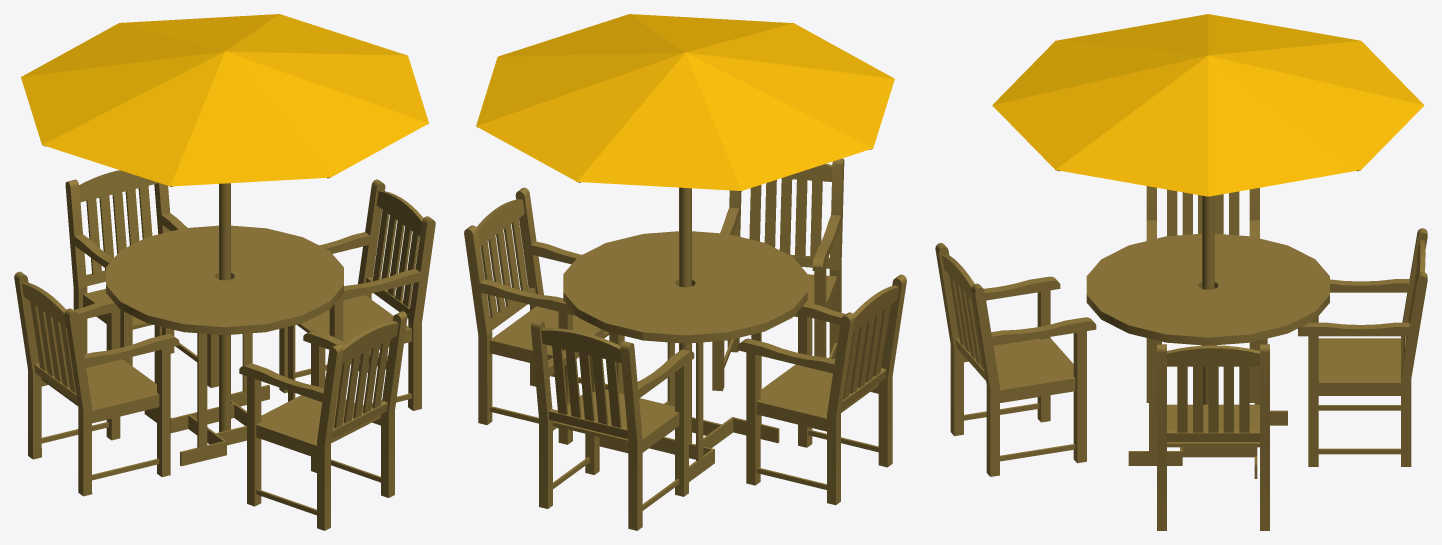
File: YellowUmbrella.fbx
3 views of the same model, side by side, from view 1: azimuth 30°, elevation 25°; view 2: azimuth 150°, elevation 25°; view 3: azimuth 270°, elevation 25° (orthographic). The views are drawn at different scales.
Visible parts, largest first — view 1: Model, Chair4, Side6, Side7, Chair3, Chair1, Chair2, Side1, Side5, Side8, Side4, Side2 (+5 smaller); view 2: Model, Chair2, Side5, Chair3, Side4, Chair1, Side2, Chair4, Side6, Side3, Side7, Side1 (+5 smaller); view 3: Model, Chair1, Side8, Side3, Chair4, Chair2, Side7, Side4, Chair3, Side1, Side2, Leg2 (+3 smaller).
Boxes of the visible parts, <box> form: Model: <box>21,14,428,432</box>; Chair4: <box>256,321,398,449</box>; Side6: <box>64,308,179,496</box>; Side7: <box>239,344,343,530</box>; Chair3: <box>22,282,159,414</box>; Chair1: <box>297,190,423,342</box>; Chair2: <box>79,170,157,329</box>; Side1: <box>329,216,435,410</box>; Side5: <box>14,271,120,459</box>; Side8: <box>303,311,407,497</box>; Side4: <box>65,179,132,365</box>; Side2: <box>279,179,385,393</box>; Model: <box>476,14,894,443</box>; Chair2: <box>541,328,679,443</box>; Side5: <box>737,312,855,505</box>; Chair3: <box>756,285,898,422</box>; Side4: <box>620,341,694,530</box>; Chair1: <box>476,199,609,358</box>; Side2: <box>464,225,576,444</box>; Chair4: <box>749,163,837,316</box>; Side6: <box>796,274,906,467</box>; Side3: <box>531,319,604,508</box>; Side7: <box>812,158,844,359</box>; Side1: <box>515,187,624,393</box>; Model: <box>992,14,1424,404</box>; Chair1: <box>1167,345,1259,447</box>; Side8: <box>971,283,1096,476</box>; Side3: <box>1298,272,1427,466</box>; Chair4: <box>942,254,1075,393</box>; Chair2: <box>1318,240,1425,386</box>; Side7: <box>935,243,1060,436</box>; Side4: <box>1310,228,1427,410</box>; Chair3: <box>1167,189,1239,236</box>; Side1: <box>1157,344,1166,530</box>; Side2: <box>1260,344,1269,530</box>; Leg2: <box>1128,338,1182,465</box>.
Bounding box in the file's own units: 2.16 × 2.12 × 2.43.
